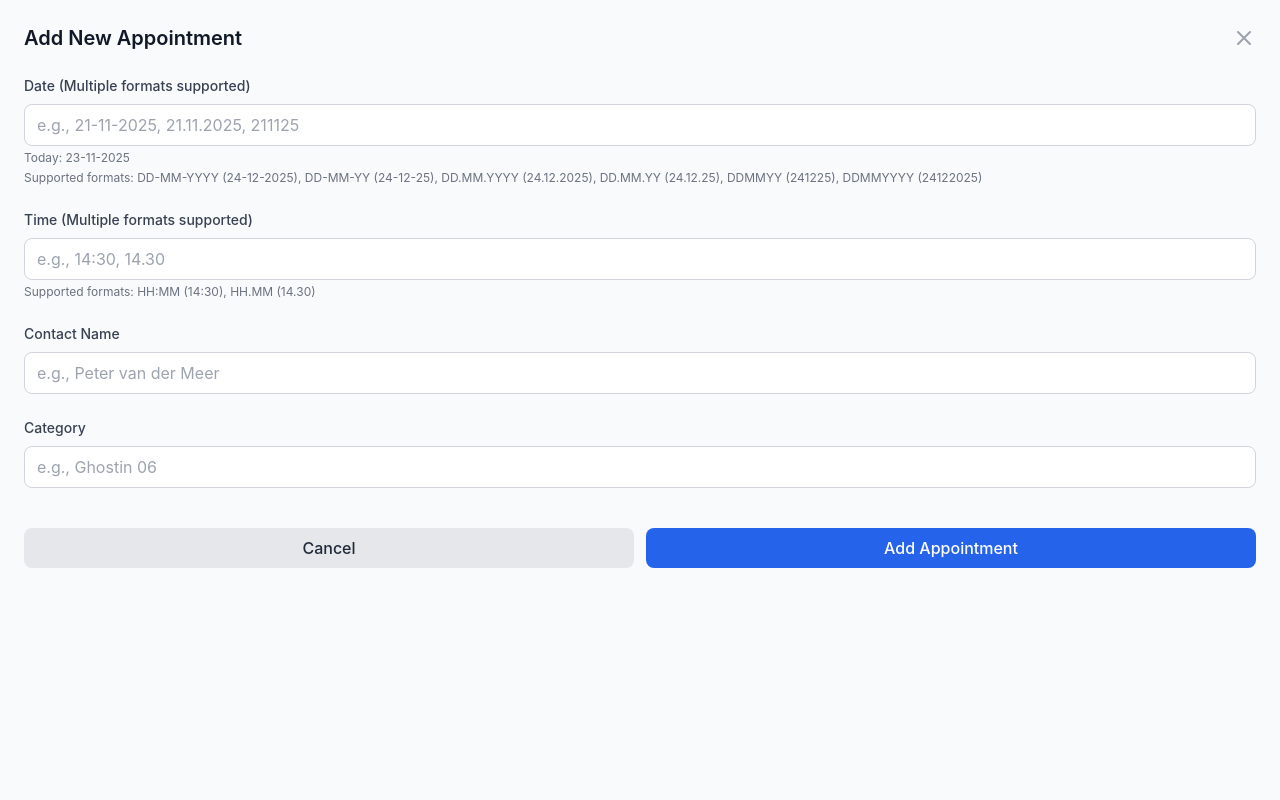
AddAppointmentForm Component › validates required fields
Click the button "Add Appointment": (951, 548) [646, 528, 1256, 568]
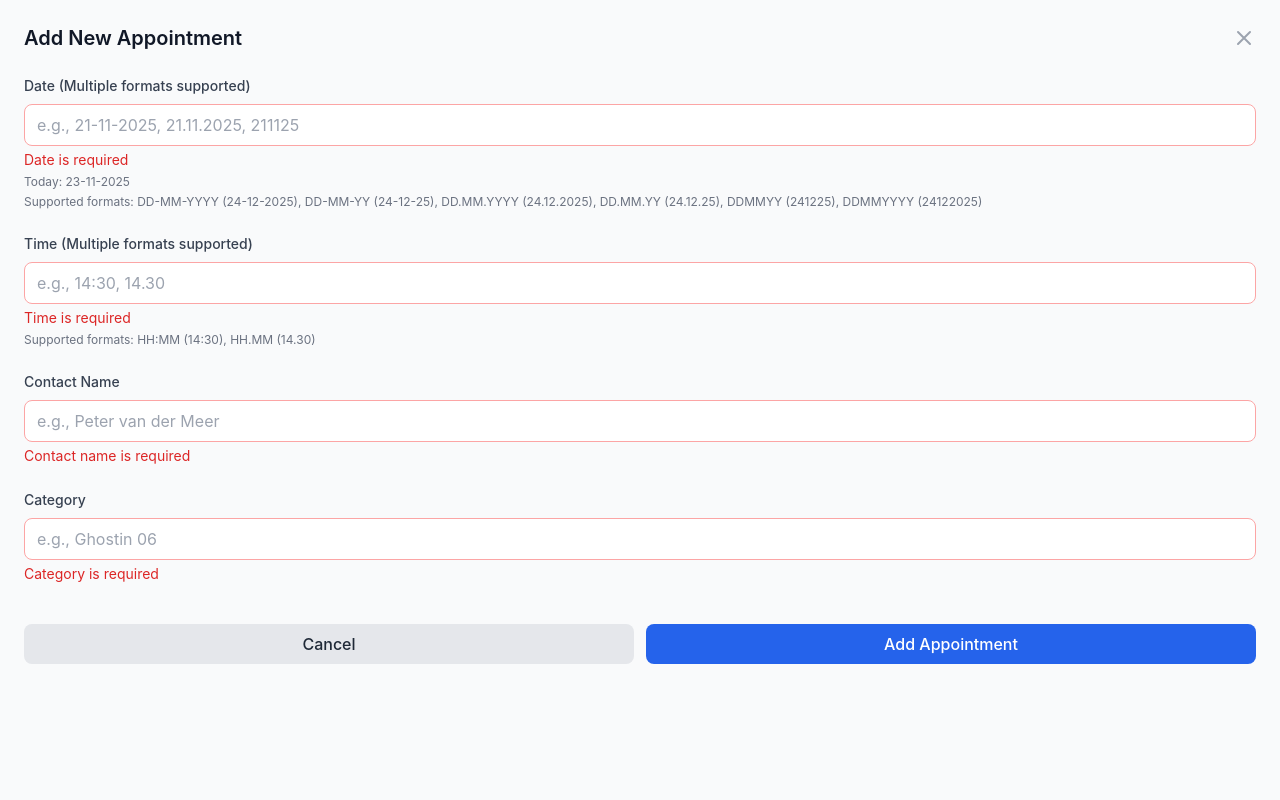
Check: the text "Date is required" is shown, box [24, 151, 128, 168]
Check: the text "Time is required" is shown, box [24, 309, 131, 326]
Check: the text "Contact name is required" is shown, box [24, 447, 190, 464]
